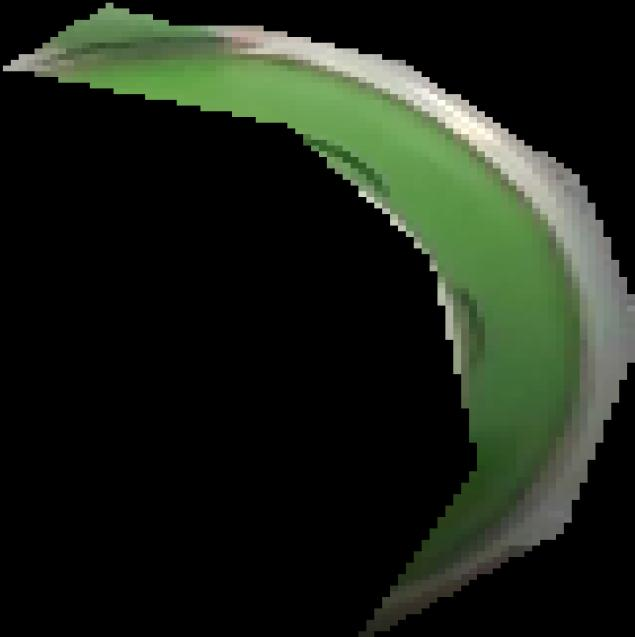head: (0, 1, 635, 637)
